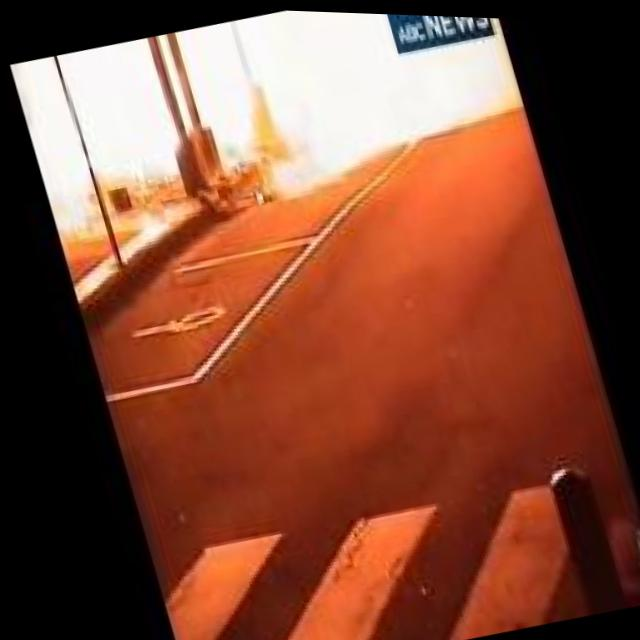fire: (6, 0, 513, 251)
